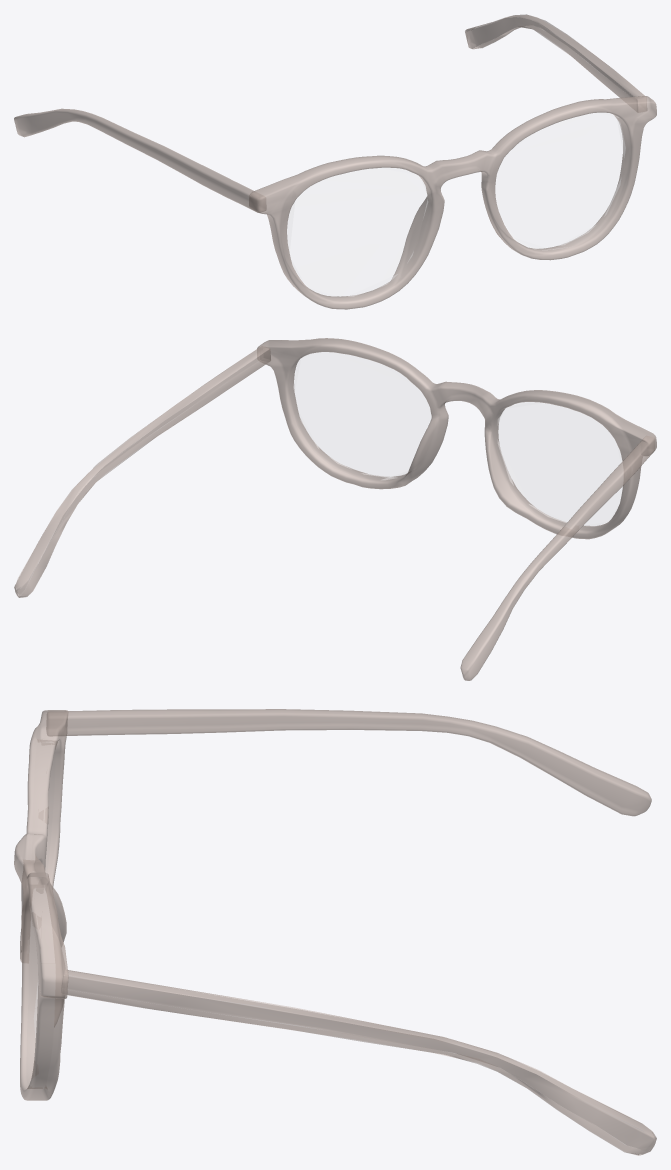
The model's file is brilleSmall2.glb.
3 renders of one model, top to bottom at view 1: azimuth 30°, elevation 25°; view 2: azimuth 150°, elevation 25°; view 3: azimuth 270°, elevation 25°, orthographic. The views are drawn at different scales.
Parts seen in each view (by area): view 1: Bügel2R; view 2: Bügel2R; view 3: Bügel2R.
Part boxes in pixels (x1,y1,x2,y2): Bügel2R: (14, 14, 656, 309); Bügel2R: (14, 338, 656, 680); Bügel2R: (14, 709, 656, 1155).
Size of the model in its own units: 0.1727 by 0.051 by 0.1501.
